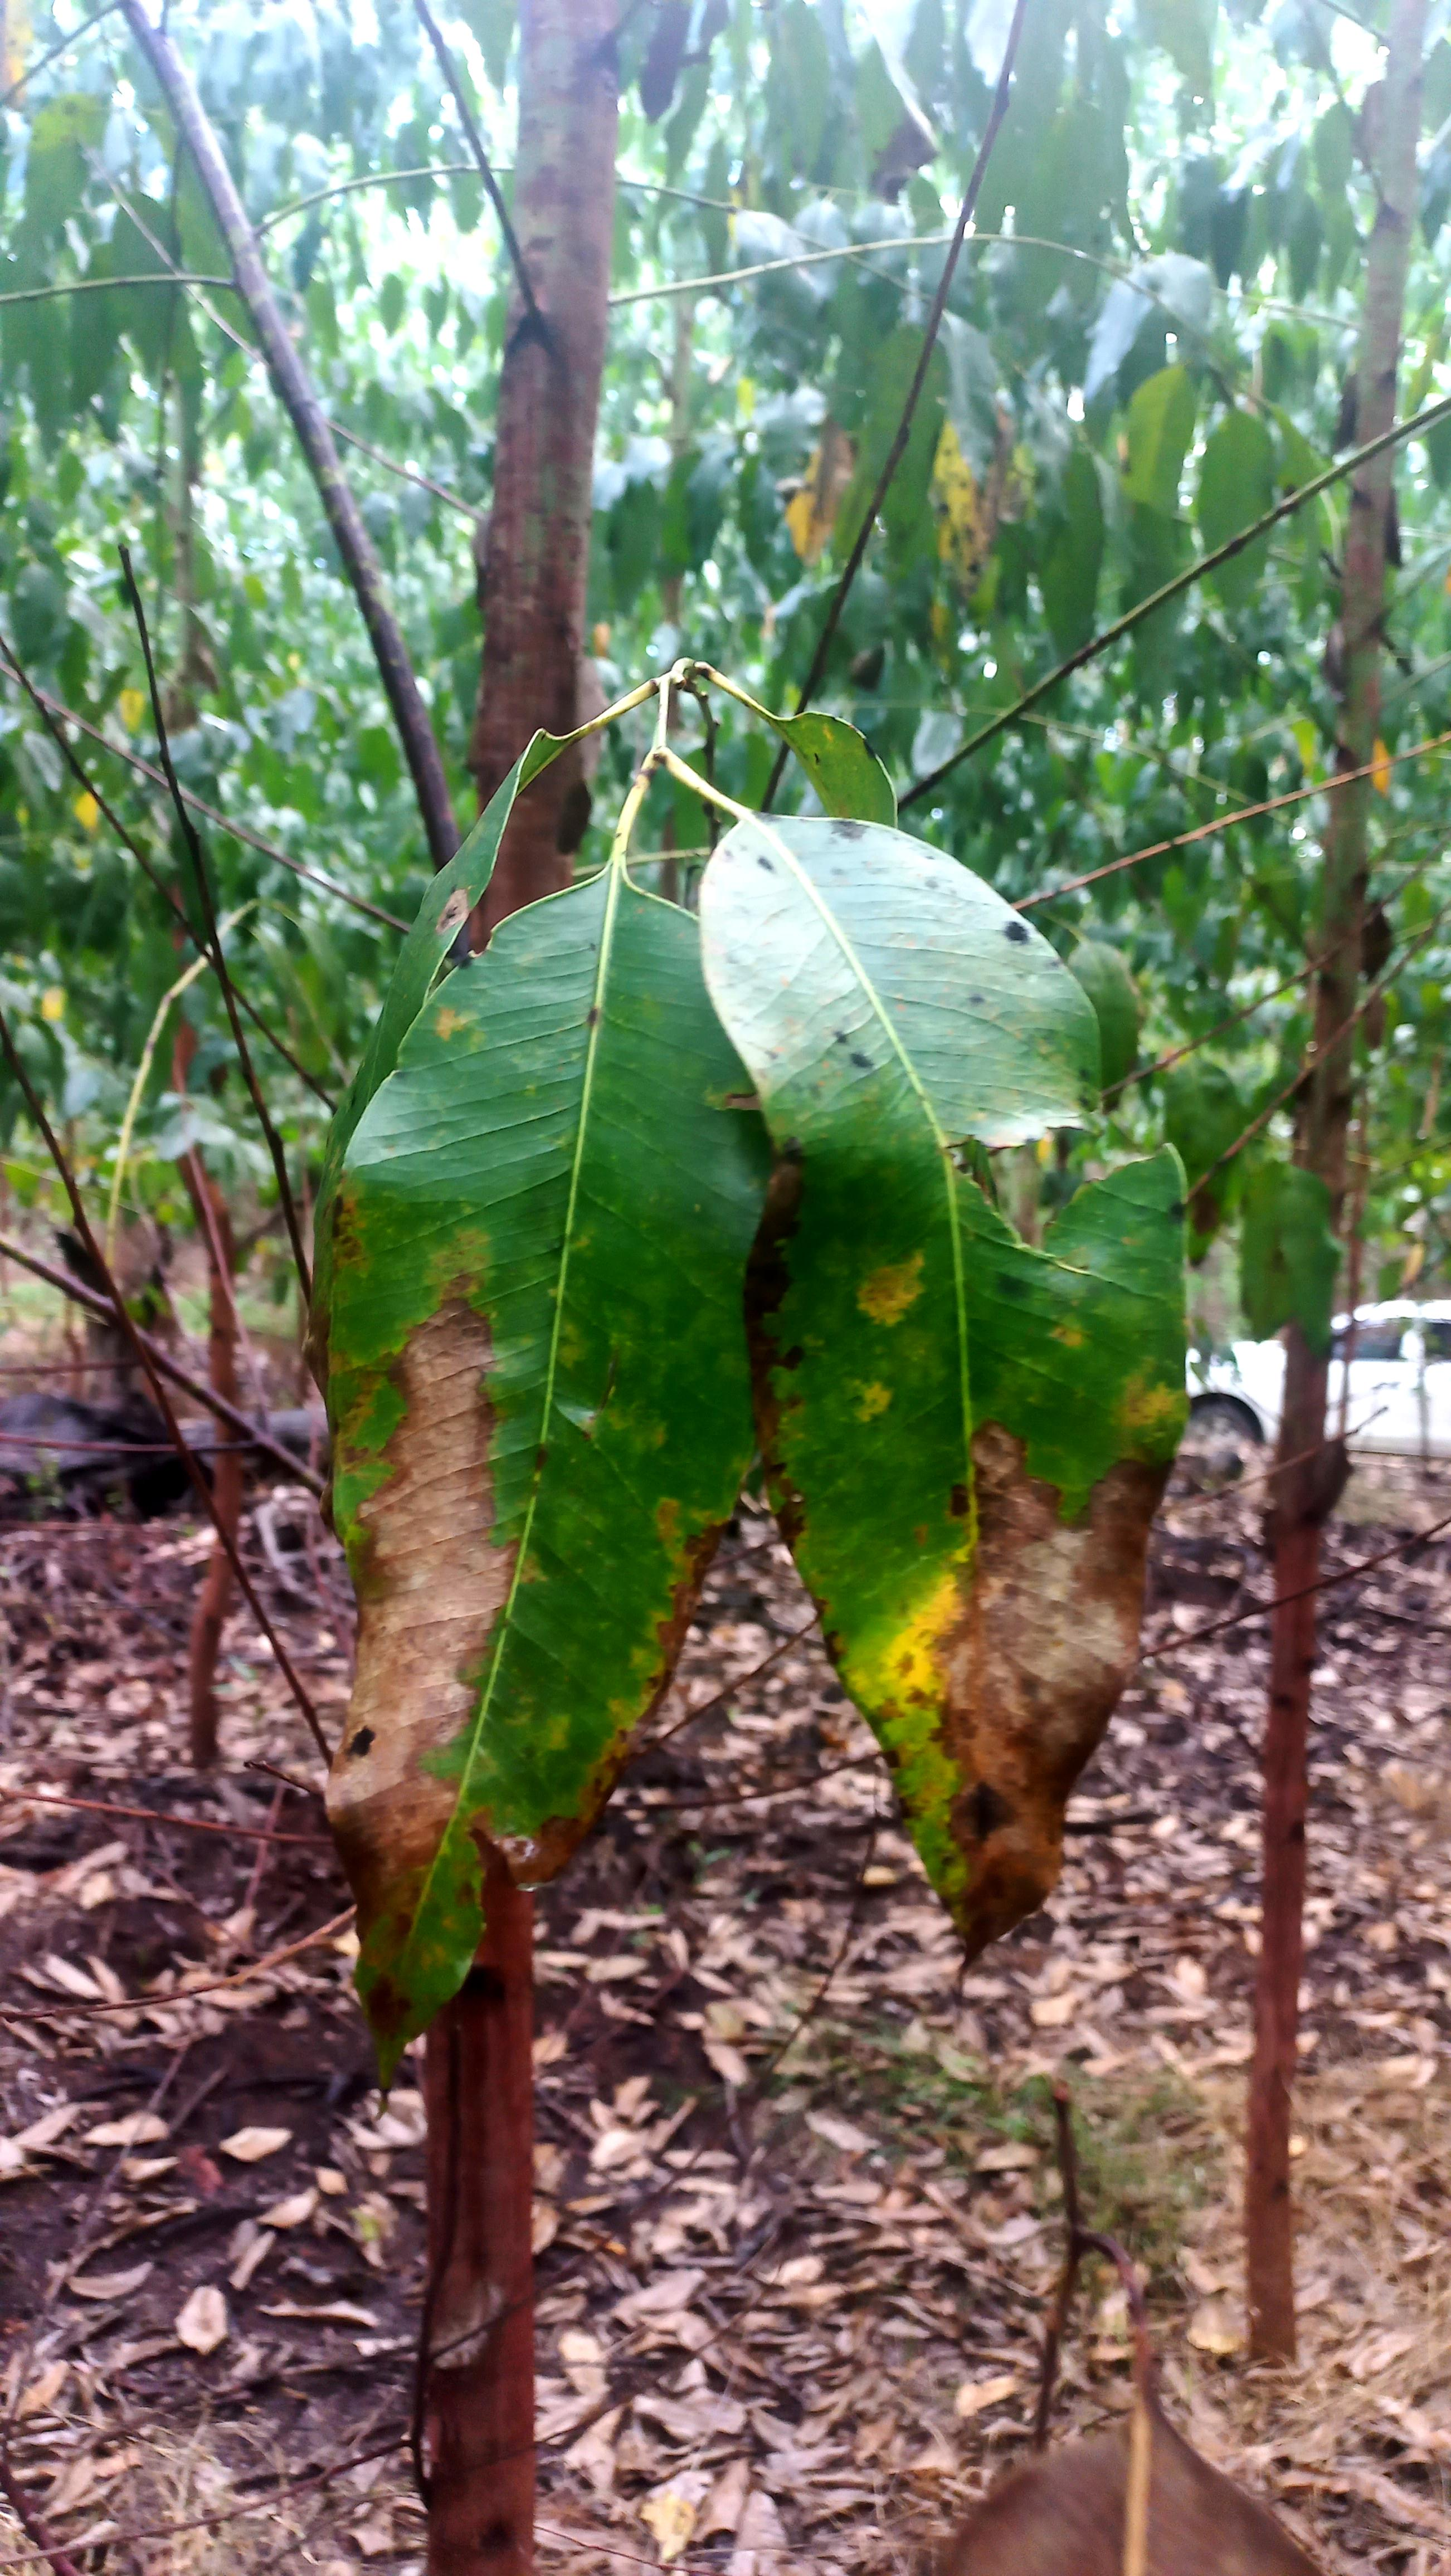Cylindrocladium: (893, 1349, 1174, 1965), (296, 1221, 492, 2050), (536, 1494, 719, 1889), (932, 402, 991, 608), (776, 430, 858, 568)
